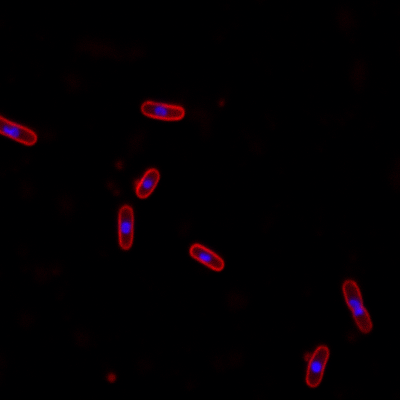CAM: (340, 277, 374, 334), (303, 343, 332, 390), (185, 241, 226, 273), (138, 97, 187, 122), (115, 203, 136, 252), (133, 166, 163, 200)
Vesicle: (110, 158, 127, 172), (213, 96, 227, 109), (104, 371, 117, 384)
